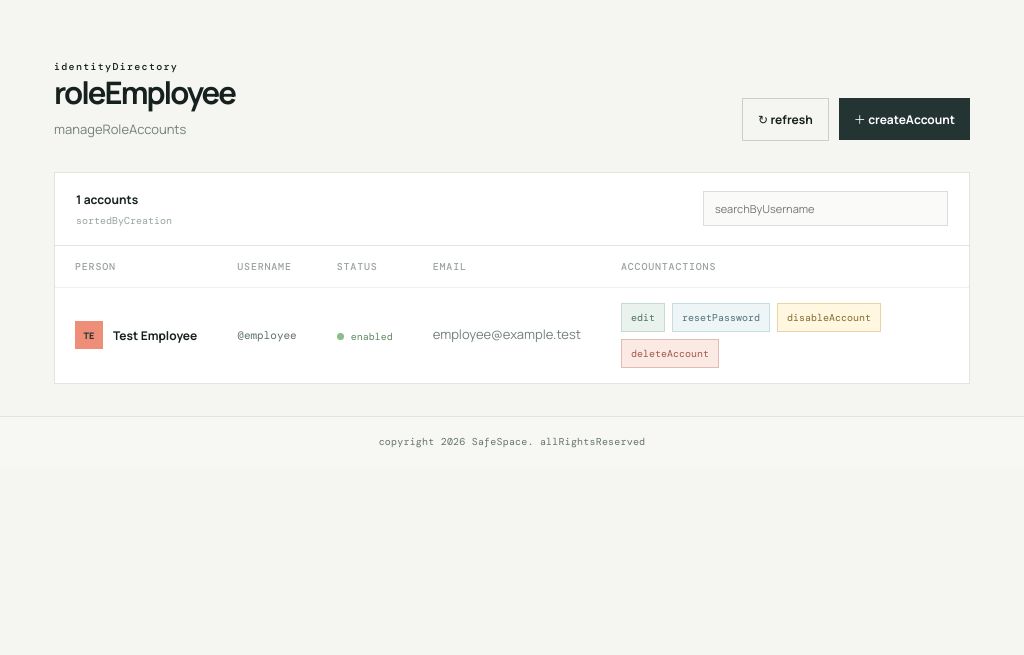
Scenario: [integration] src/pages/UserManagementPage.tsx › rejects short reset password
Click the button "resetPassword".
click(721, 317)  # box x1=672 y1=302 x2=770 y2=332
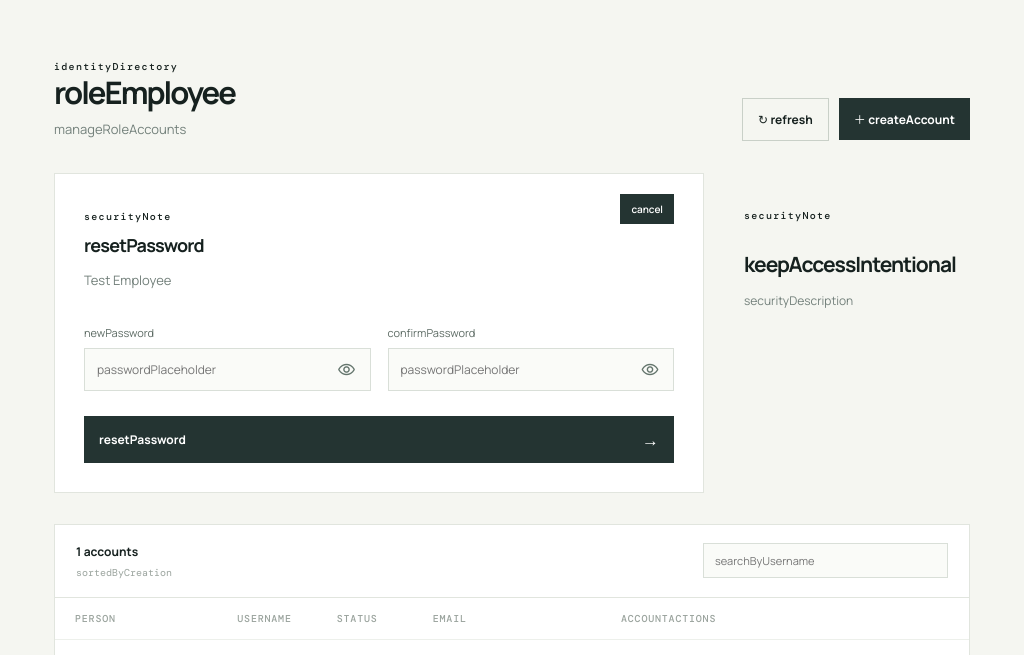
Submit the form, box x1=84 y1=325 x2=674 y2=463
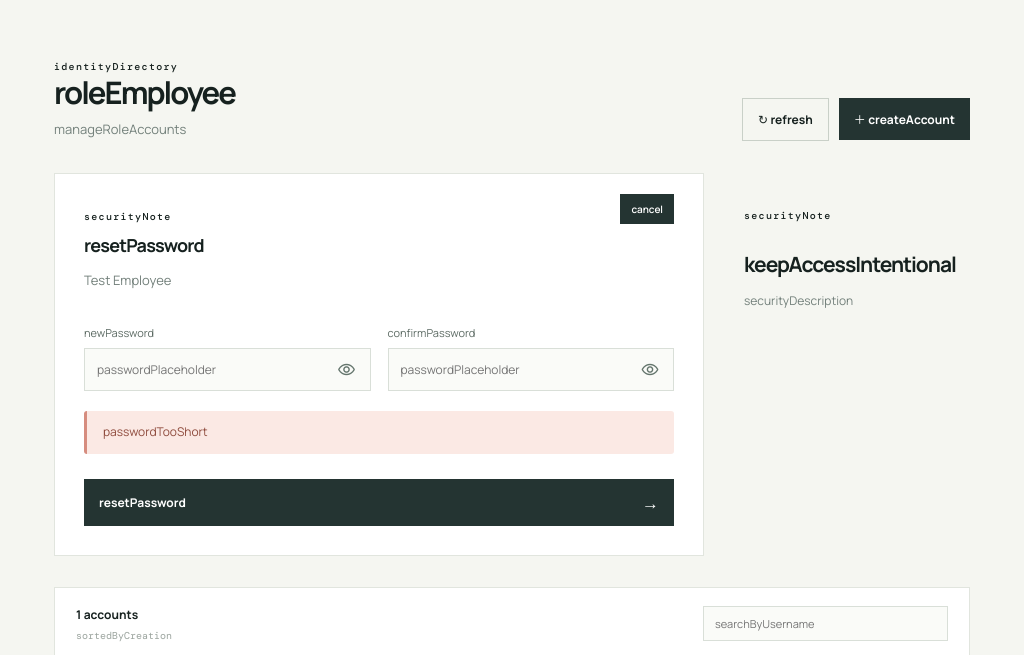
Now the text "passwordTooShort" is shown, box x1=84 y1=411 x2=674 y2=454
